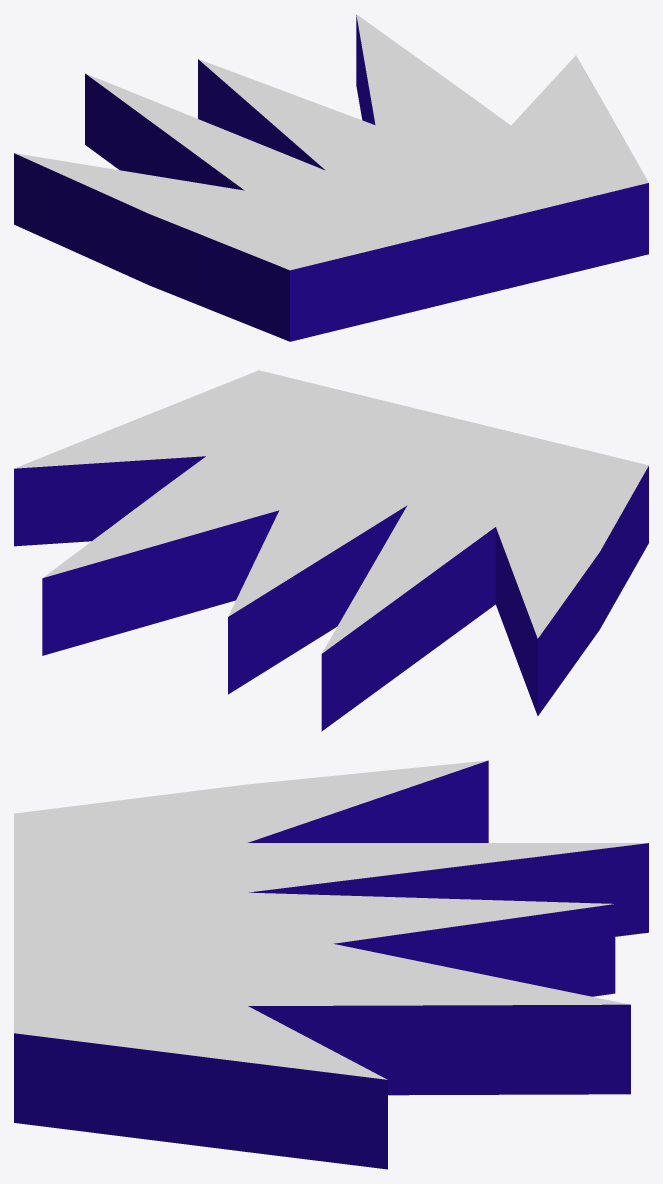
File: Fivespikes_Crown.fbx
The picture shows the model from 3 angles, top to bottom: view 1: azimuth 30°, elevation 25°; view 2: azimuth 150°, elevation 25°; view 3: azimuth 270°, elevation 25°; orthographic projection. The views are drawn at different scales.
Visible parts, largest first — view 1: pCube1; view 2: pCube1; view 3: pCube1.
Boxes of the visible parts, x1,y1,x2,y2 form: pCube1: [14, 14, 648, 341]; pCube1: [14, 370, 648, 731]; pCube1: [14, 760, 648, 1169].
Bounding box in the file's own units: 2.78 × 0.3636 × 2.33.
